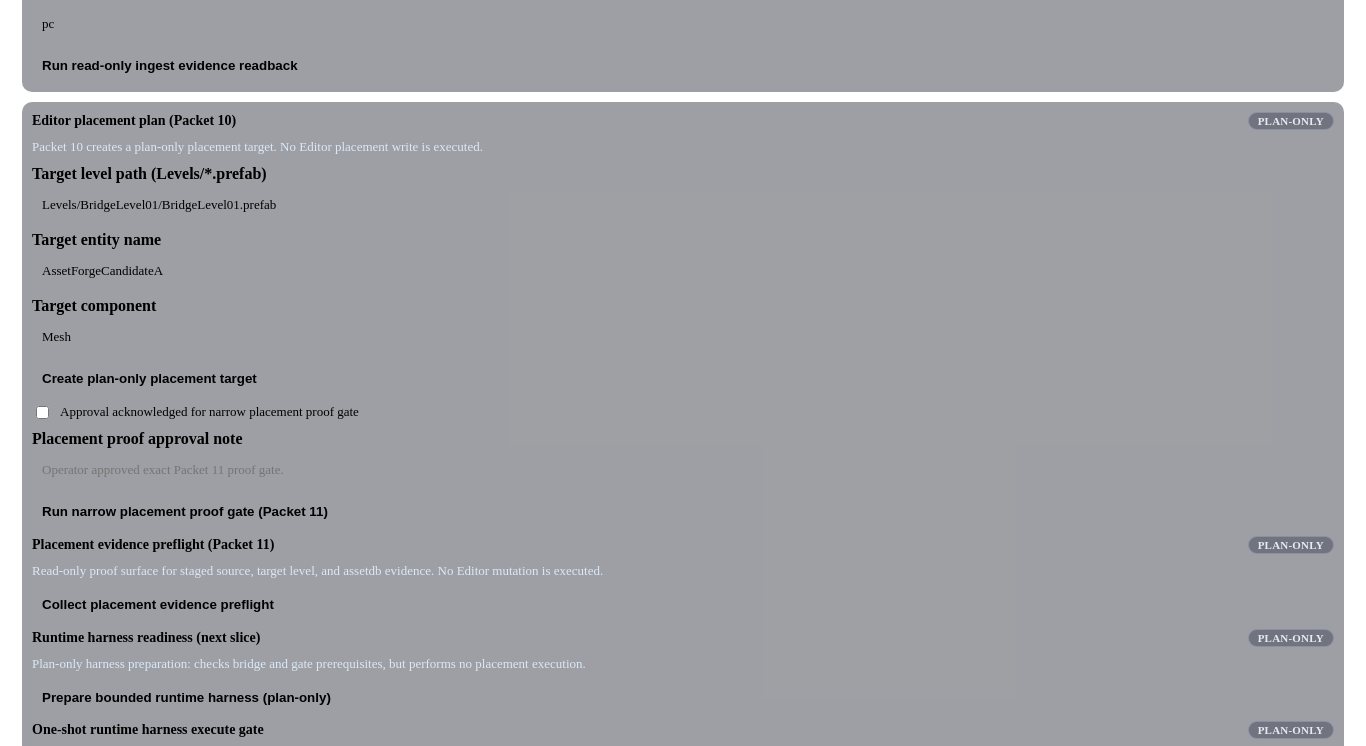
Test case: AssetForgeStudioPacket01 › creates Packet 10 placement plan and renders plan-only placement details
(page scrolled)
Click the button "Create plan-only placement target". click: [149, 379]
box: 32,363 -> 267,395
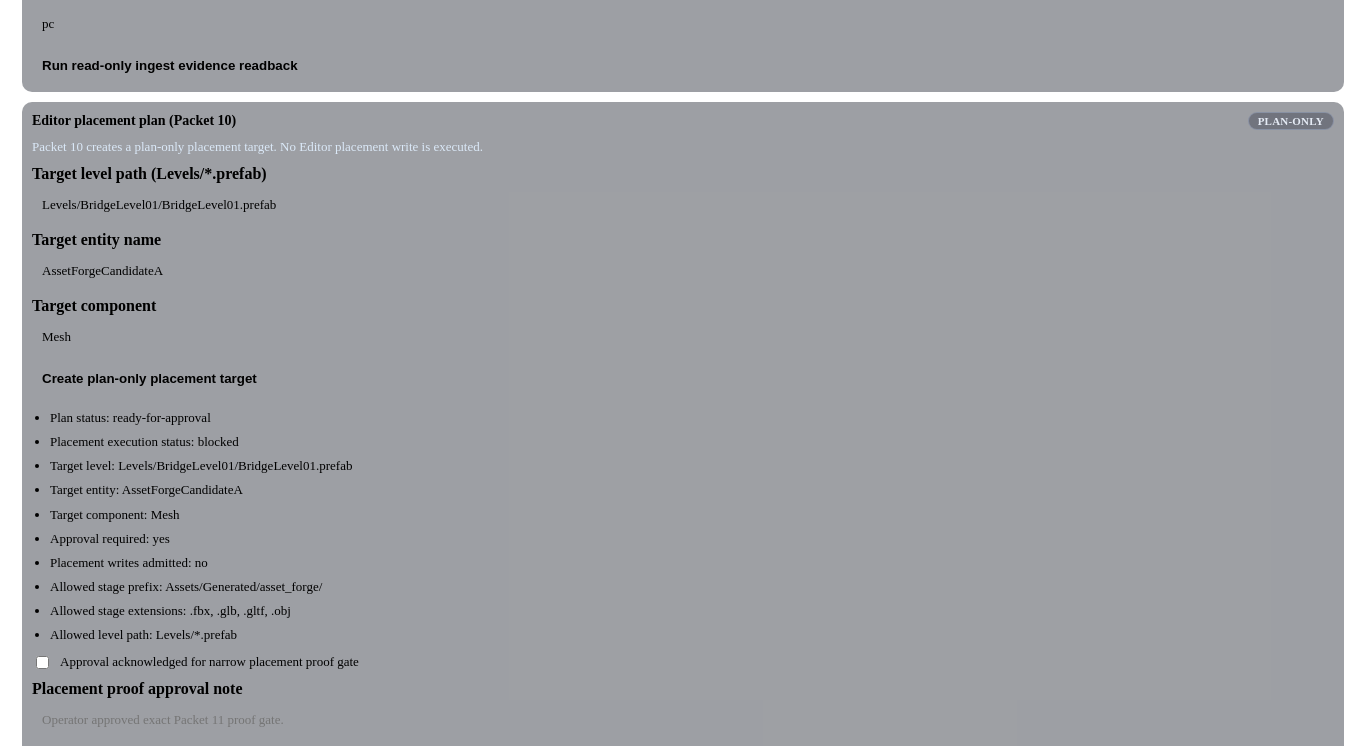
Now the list item "Plan status: ready-for-approval" is shown, box 50,410 -> 211,425
Now the list item "Placement execution status: blocked" is shown, box 50,434 -> 239,449
Now the list item "Target level: Levels/BridgeLevel01/BridgeLevel01.prefab" is shown, box 50,458 -> 352,473
